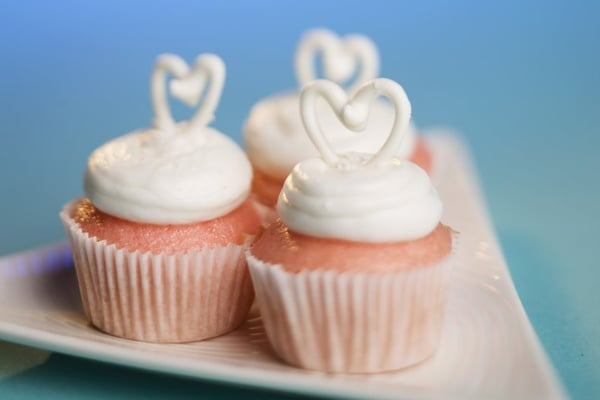sushi: (50, 40, 560, 375), (60, 50, 261, 343), (246, 154, 458, 374)
